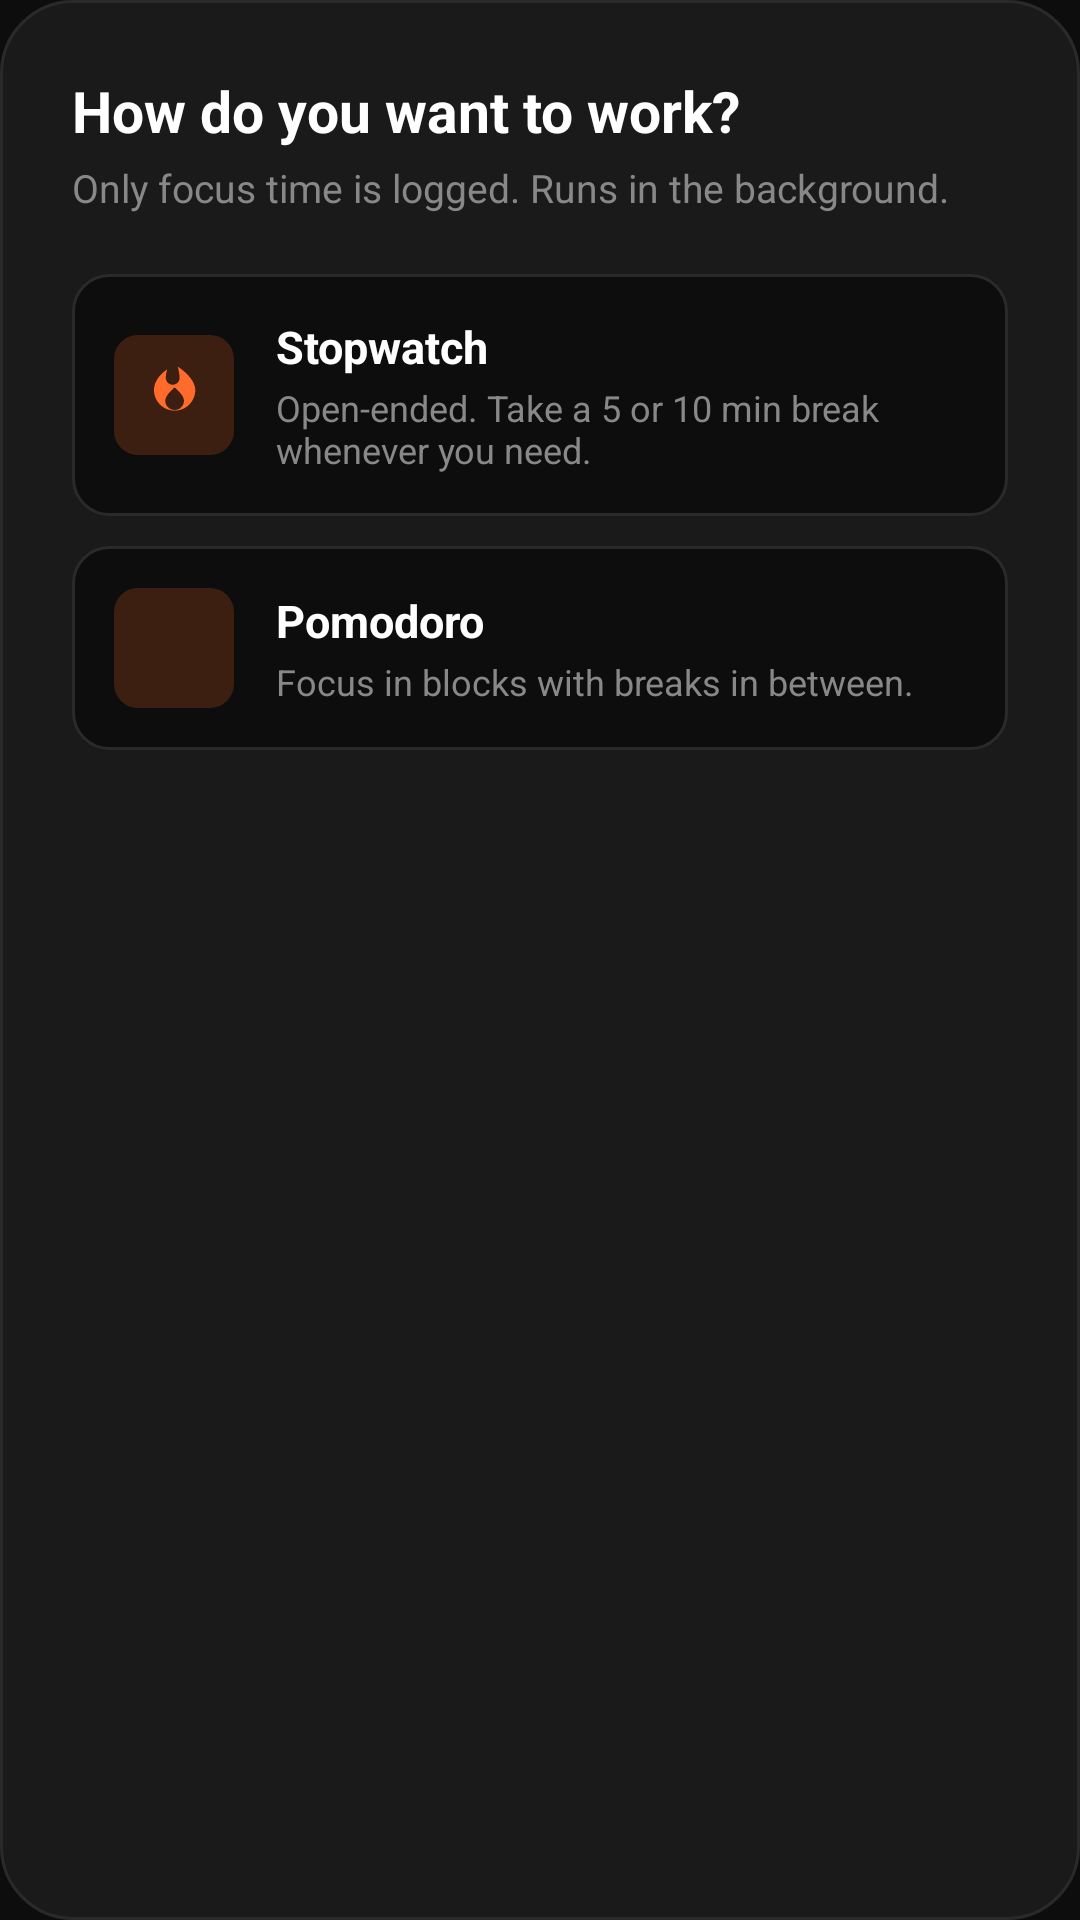

Point at icon controls on the screen. Image size 1080 x 1920, points as (x=x, y=y).
flame: (x=175, y=389)
